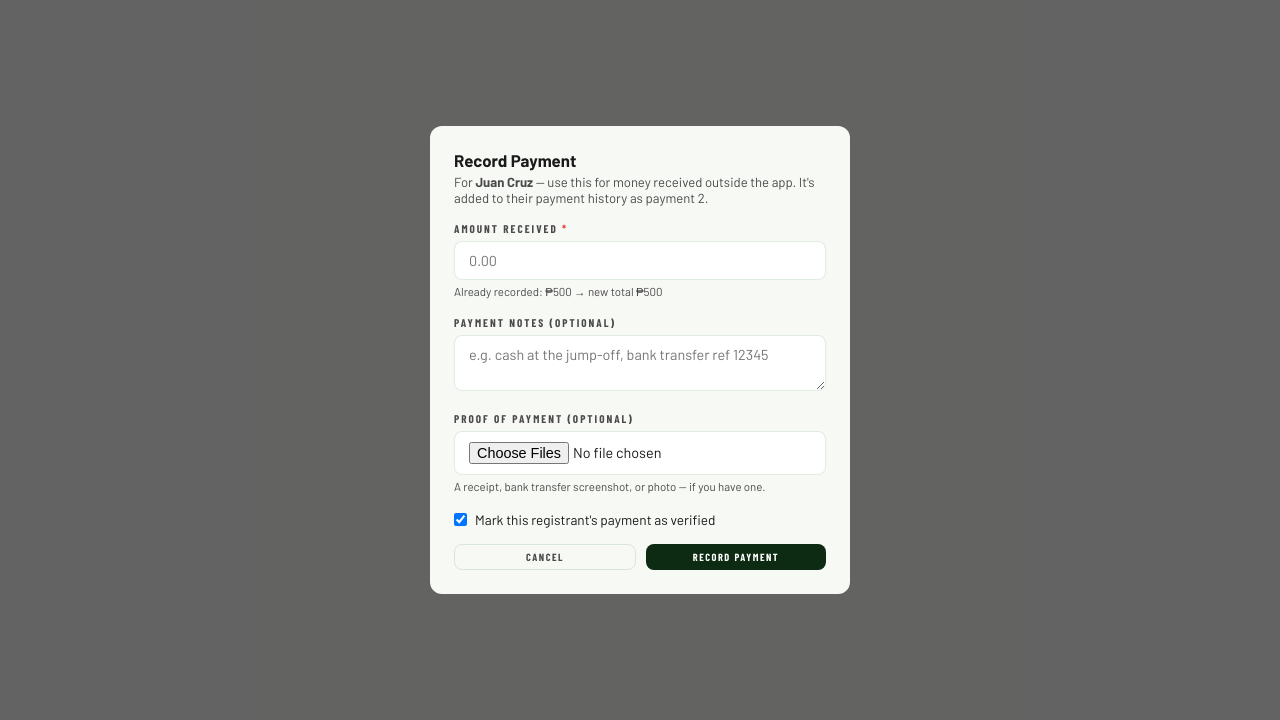
Test: RecordPaymentModal › refuses to save without an amount
Click the button "Record Payment" at (736, 557), box [646,544,826,570]
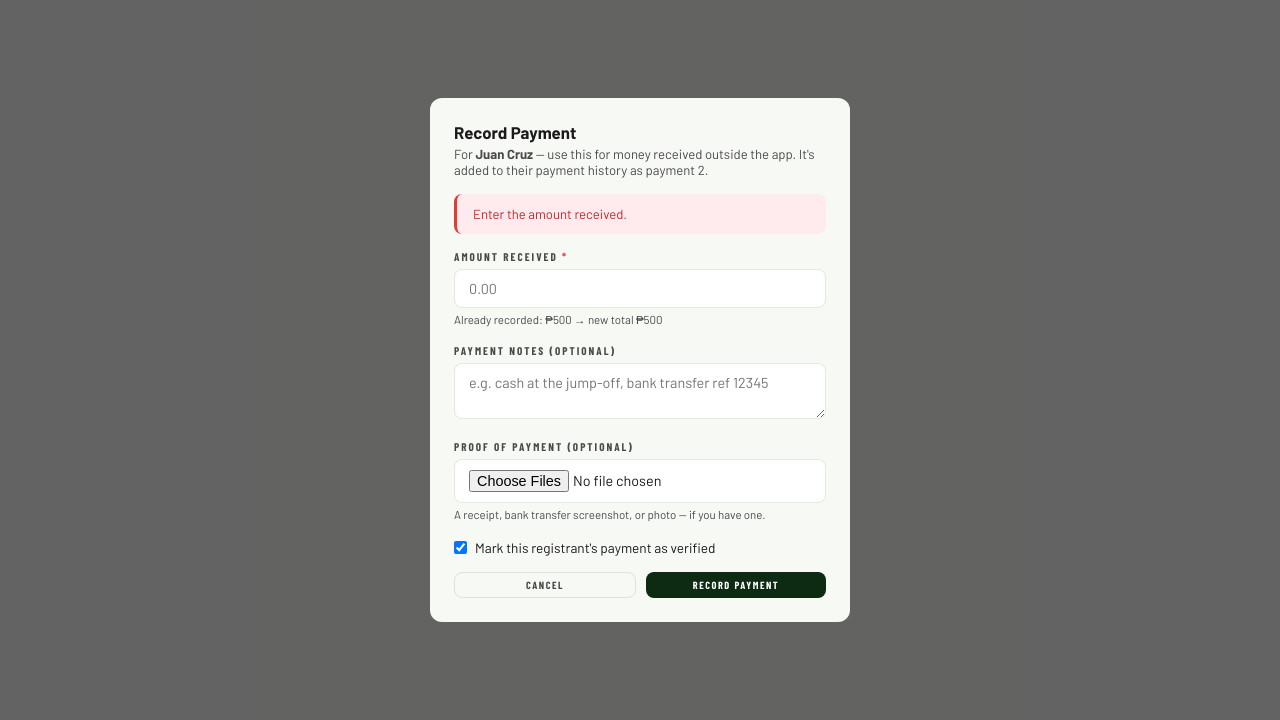
Now the text "Enter the amount received." is shown, box [454,194,826,234]
